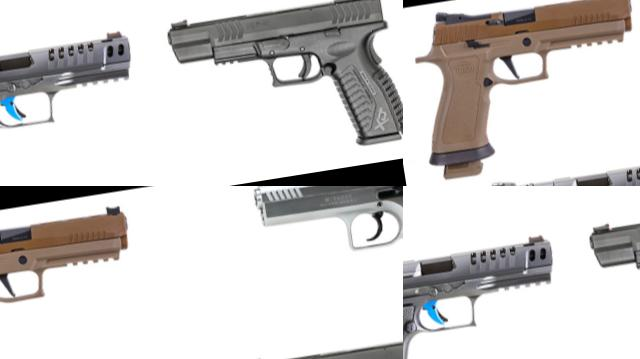handgun: (403, 228, 576, 359), (403, 186, 529, 289), (583, 186, 640, 359), (112, 9, 161, 60)
